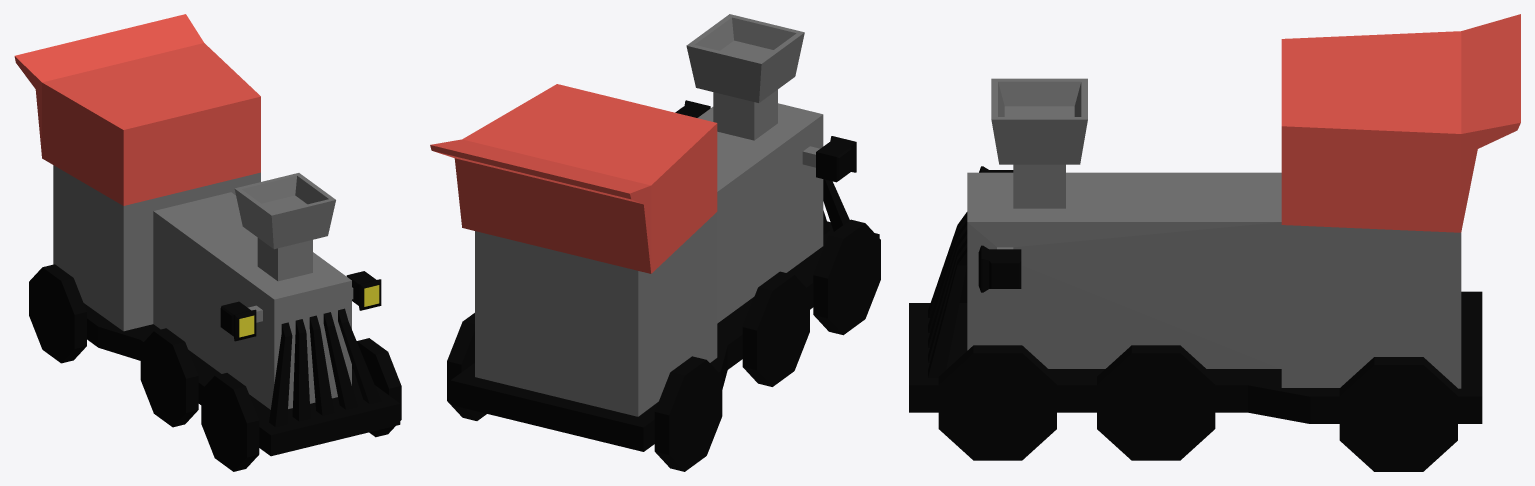
The model's file is locomotive.fbx.
The picture shows the model from 3 angles, left to right: view 1: azimuth 30°, elevation 25°; view 2: azimuth 150°, elevation 25°; view 3: azimuth 270°, elevation 25°; orthographic projection. The views are drawn at different scales.
Visible parts, largest first — view 1: Cube.001, Cube.002, Cube, Circle.002, Circle.004, Circle, Circle.005; view 2: Cube.001, Cube.002, Cube, Circle, Circle.004, Circle.002, Circle.001; view 3: Cube.001, Cube.002, Cube, Circle.005, Circle.003, Circle.001.
Part boxes in pixels (bbox=[...]): Cube.001: bbox=[53, 165, 381, 409]; Cube.002: bbox=[14, 14, 260, 205]; Cube: bbox=[83, 303, 400, 456]; Circle.002: bbox=[140, 328, 198, 427]; Circle.004: bbox=[201, 373, 259, 471]; Circle: bbox=[29, 264, 86, 363]; Circle.005: bbox=[352, 338, 401, 437]; Cube.001: bbox=[475, 14, 856, 416]; Cube.002: bbox=[430, 84, 717, 273]; Cube: bbox=[450, 179, 879, 451]; Circle: bbox=[654, 356, 722, 471]; Circle.004: bbox=[813, 219, 880, 335]; Circle.002: bbox=[742, 271, 809, 386]; Circle.001: bbox=[447, 313, 486, 420]; Cube.001: bbox=[967, 78, 1461, 388]; Cube.002: bbox=[1281, 14, 1520, 232]; Cube: bbox=[909, 212, 1482, 423]; Circle.005: bbox=[938, 345, 1056, 460]; Circle.003: bbox=[1097, 345, 1215, 460]; Circle.001: bbox=[1339, 357, 1457, 471].
Bounding box in the file's own units: 319 × 421 × 681.
